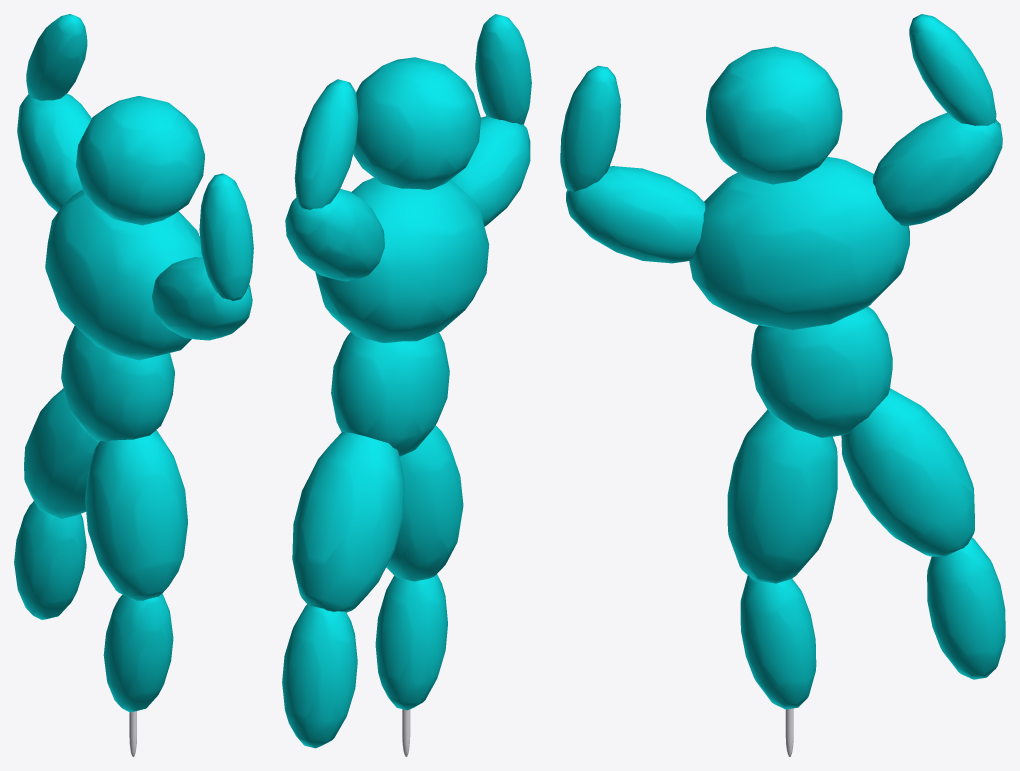
The model's file is balloon5.glb.
3 views of the same model, side by side, from view 1: azimuth 30°, elevation 25°; view 2: azimuth 150°, elevation 25°; view 3: azimuth 270°, elevation 25° (orthographic). The views are drawn at different scales.
Visible parts, largest first — view 1: Mball.001; view 2: Mball.001; view 3: Mball.001.
Part boxes in pixels (x1,y1,x2,y2): Mball.001: (14, 14, 253, 756); Mball.001: (282, 14, 531, 756); Mball.001: (560, 14, 1005, 756).
Bounding box in the file's own units: 2.23 × 11.56 × 6.3.
